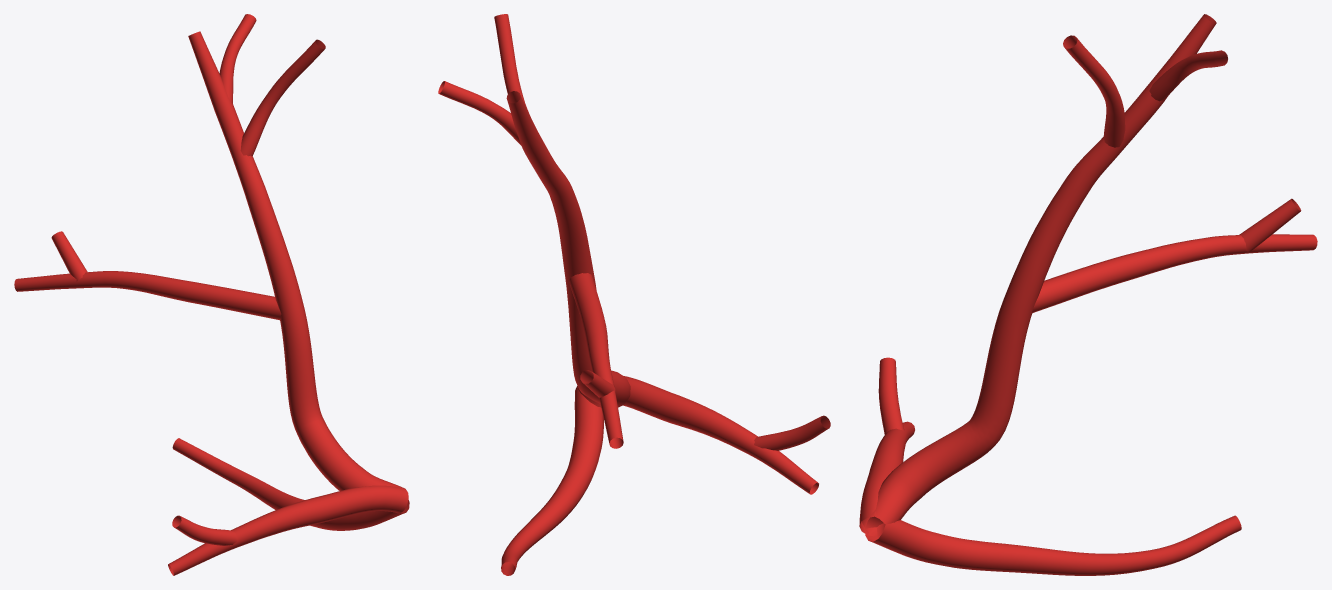
Rendered from circulatorio-posterior-vein-of-right-lung.glb.
3 renders of one model, left to right at view 1: azimuth 30°, elevation 25°; view 2: azimuth 150°, elevation 25°; view 3: azimuth 270°, elevation 25°, orthographic. The views are drawn at different scales.
Visible parts, largest first — view 1: Posterior vein of right lung; view 2: Posterior vein of right lung; view 3: Posterior vein of right lung.
Boxes of the visible parts, bbox=[...] form: Posterior vein of right lung: bbox=[14, 14, 409, 575]; Posterior vein of right lung: bbox=[438, 14, 830, 575]; Posterior vein of right lung: bbox=[859, 14, 1317, 575].
Size of the model in its own units: 0.0408 by 0.0773 by 0.0572.
